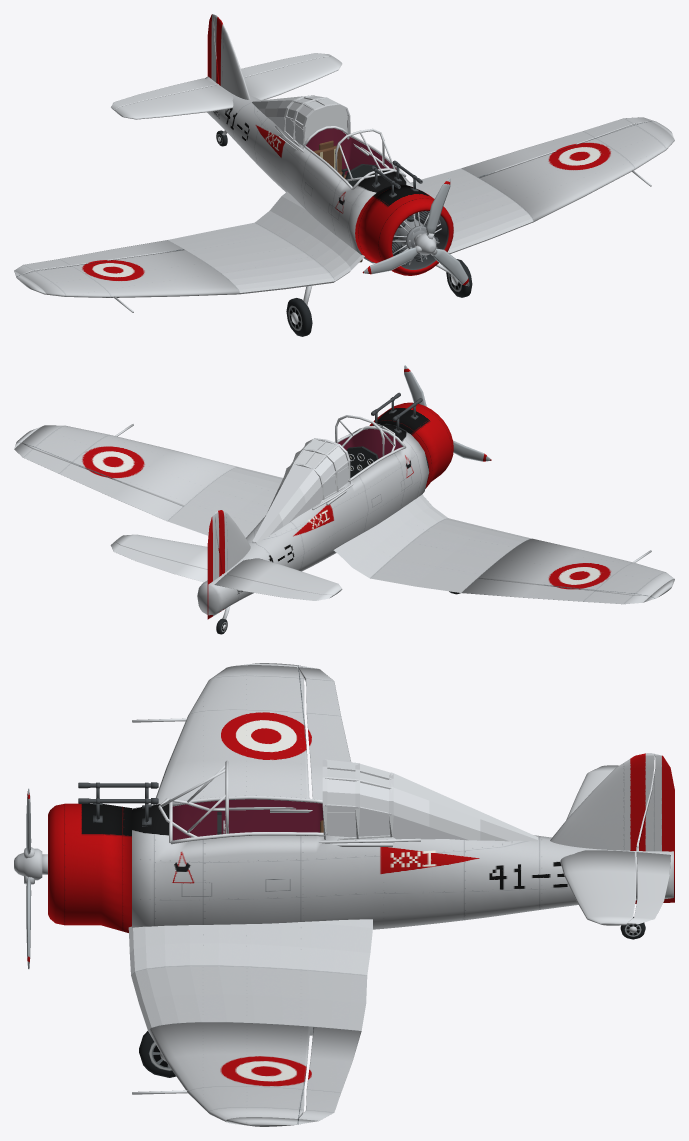
The model's file is Aircraft_Reconstructed_Unity.fbx.
3 views of the same model, one above another, from view 1: azimuth 30°, elevation 25°; view 2: azimuth 150°, elevation 25°; view 3: azimuth 270°, elevation 25° (orthographic). The views are drawn at different scales.
Visible parts, largest first — view 1: Aircraft_Unity_Export; view 2: Aircraft_Unity_Export; view 3: Aircraft_Unity_Export.
Boxes of the visible parts, bbox=[...] form: Aircraft_Unity_Export: bbox=[14, 14, 674, 336]; Aircraft_Unity_Export: bbox=[14, 365, 674, 634]; Aircraft_Unity_Export: bbox=[14, 663, 674, 1126].
Bounding box in the file's own units: 1135 × 306 × 689.
Materials: 17 (6 with a texture image).
